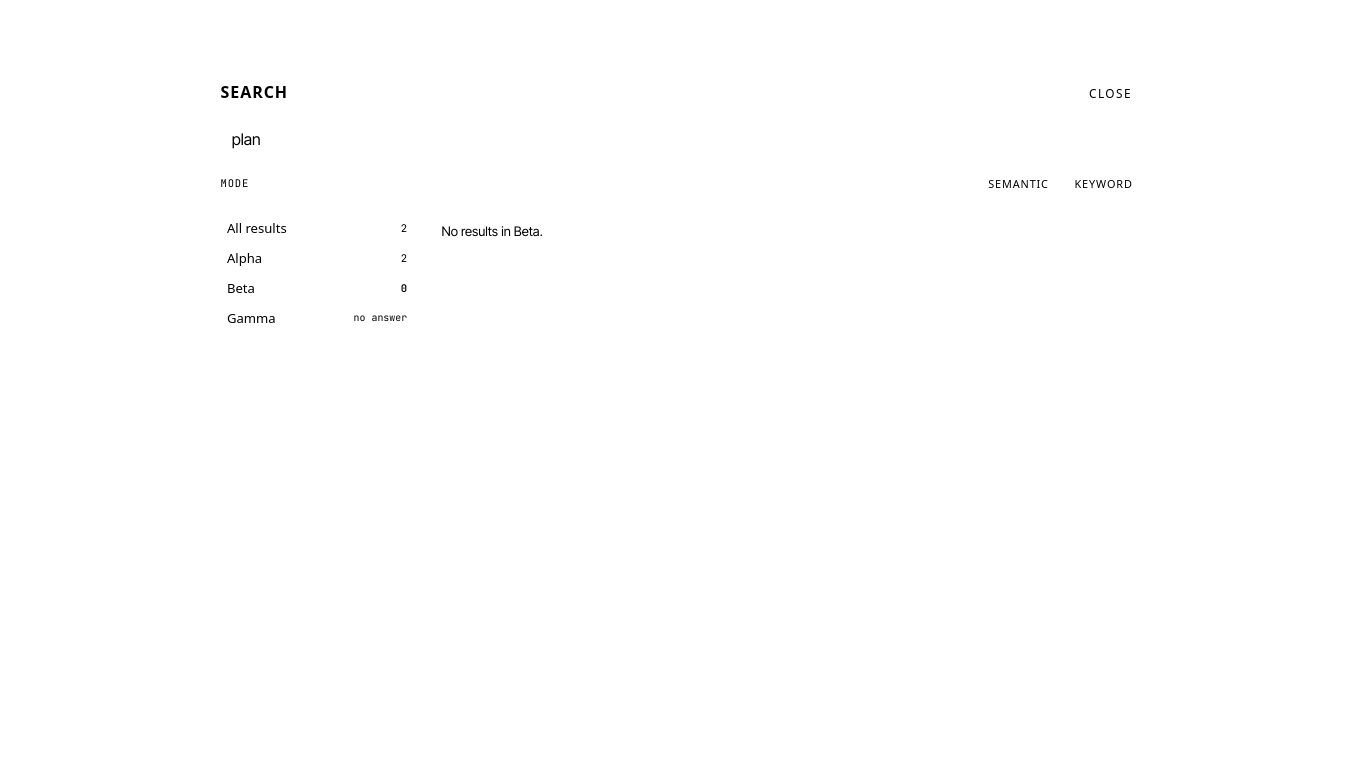
Scenario: SearchDialog's own Vault filter — never the browsing scope (#144) › lets a narrowed reader widen back to every Vault without leaving the dialog
Expected: the text "No results in Beta." is shown, [442, 223, 543, 239]
Expected: the button "Alpha 2" is shown, [220, 244, 414, 272]
Click the button "All results 2" at (317, 228), box [220, 214, 414, 242]
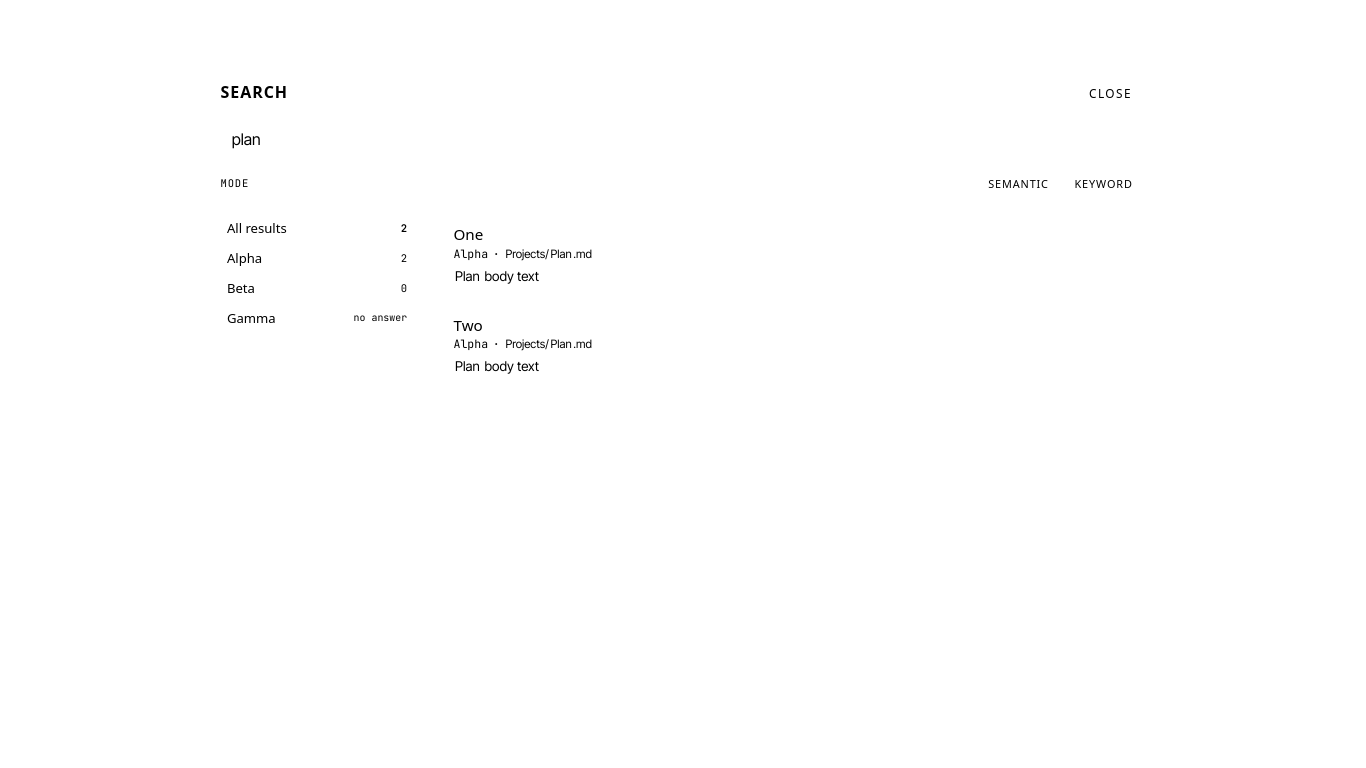
Now the text "One" is shown, box [454, 224, 483, 244]
Now the text "Two" is shown, box [454, 315, 483, 335]
